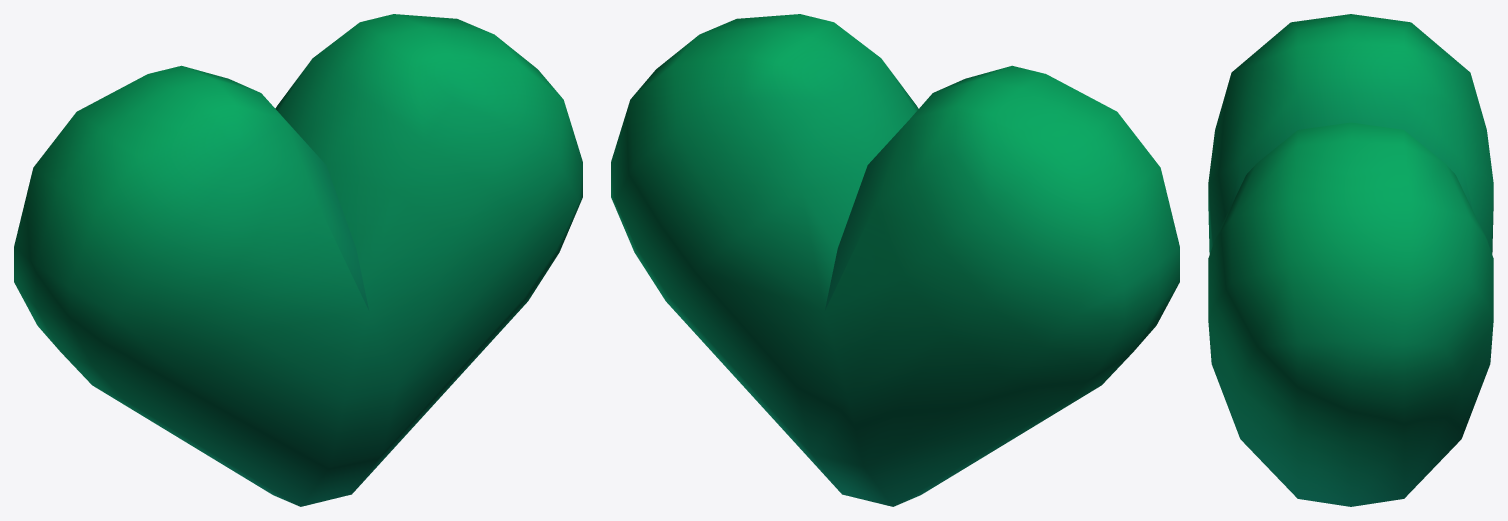
File: heart_green.glb
3 views of the same model, side by side, from view 1: azimuth 30°, elevation 25°; view 2: azimuth 150°, elevation 25°; view 3: azimuth 270°, elevation 25° (orthographic). The views are drawn at different scales.
Parts seen in each view (by area): view 1: heart_green; view 2: heart_green; view 3: heart_green.
Boxes of the visible parts, <box> form: heart_green: <box>14,14,582,506</box>; heart_green: <box>611,14,1179,506</box>; heart_green: <box>1208,14,1493,506</box>.
Bounding box in the file's own units: 1.08 × 0.8466 × 0.5305.
Materials: 1 (1 with a texture image).
